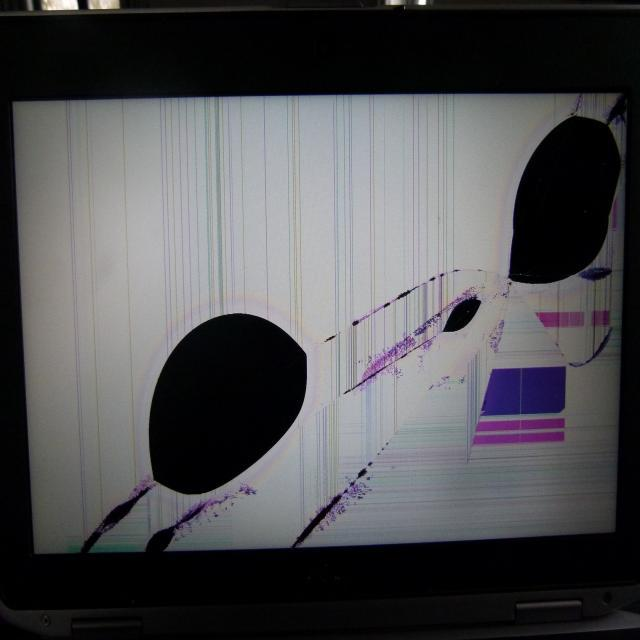Screen cracks: (74, 100, 624, 555)
